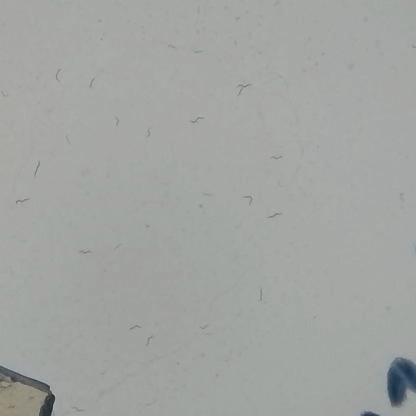worm: (194, 315, 226, 338), (251, 274, 275, 304), (22, 157, 53, 178), (160, 37, 189, 58), (388, 187, 408, 213), (50, 65, 74, 84), (13, 190, 38, 207), (185, 111, 206, 131), (231, 81, 252, 101), (123, 320, 148, 336), (112, 233, 133, 250), (191, 0, 212, 17), (262, 206, 287, 220), (141, 332, 164, 347), (276, 69, 299, 84), (143, 392, 162, 410), (192, 41, 213, 57), (85, 71, 103, 89), (240, 191, 257, 210), (71, 245, 94, 259), (69, 400, 89, 416), (140, 122, 153, 144), (199, 187, 218, 200), (267, 150, 287, 162), (62, 132, 77, 148), (0, 85, 14, 101), (110, 111, 120, 132)
